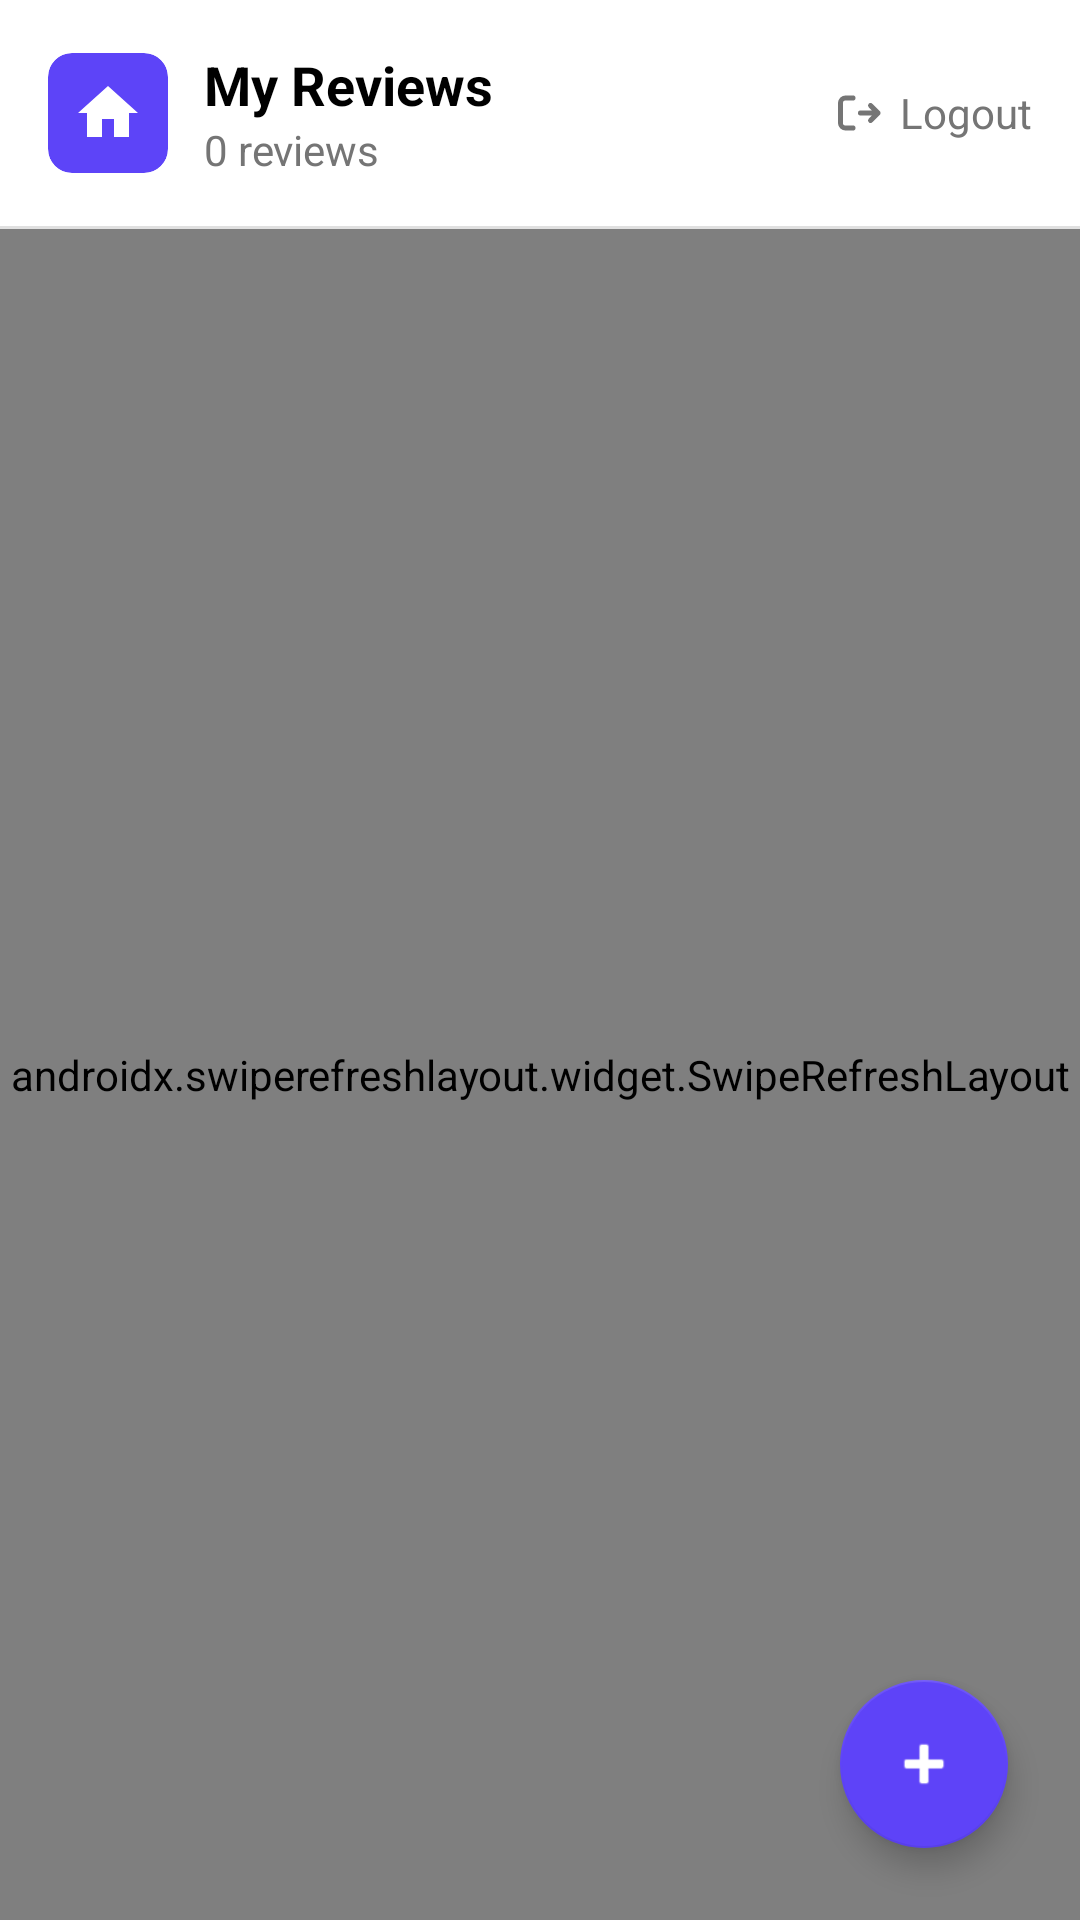

Named icons in this screenshot (1080*1920) and their centers, (x,y):
add: (924,1764)
house: (108,111)
